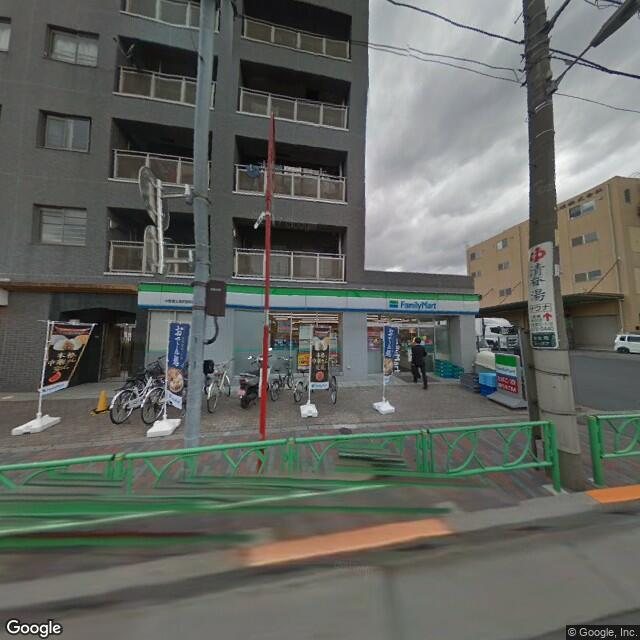family_mart: (224, 282, 483, 315), (492, 347, 518, 383)
